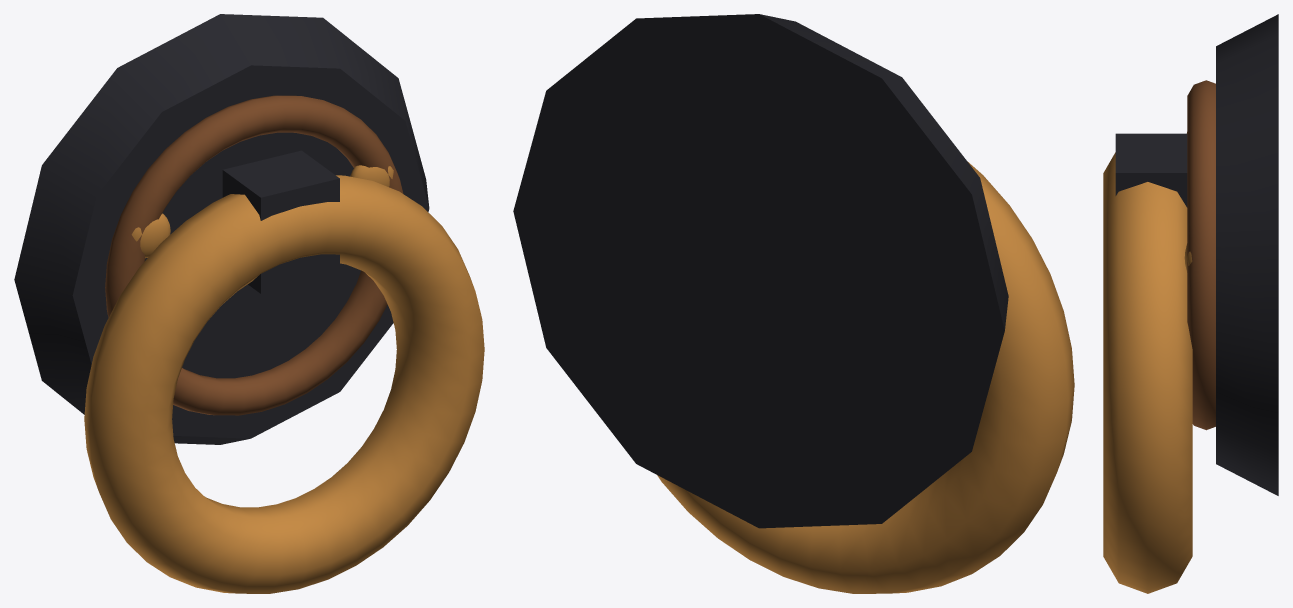
File: mia-handle.glb
3 views of the same model, side by side, from view 1: azimuth 30°, elevation 25°; view 2: azimuth 150°, elevation 25°; view 3: azimuth 270°, elevation 25° (orthographic). The views are drawn at different scales.
Parts seen in each view (by area): view 1: Body_brass, Body_iron, Body_rust; view 2: Body_iron, Body_brass; view 3: Body_brass, Body_iron, Body_rust.
Boxes of the visible parts, x1,y1,x2,y2 form: Body_brass: [84, 165, 484, 593]; Body_iron: [14, 14, 429, 444]; Body_rust: [105, 95, 403, 415]; Body_iron: [513, 14, 1008, 528]; Body_brass: [657, 161, 1074, 593]; Body_brass: [1103, 132, 1192, 593]; Body_iron: [1115, 14, 1278, 495]; Body_rust: [1187, 80, 1215, 430].
Size of the model in its own units: 0.224 by 0.274 by 0.0812.
